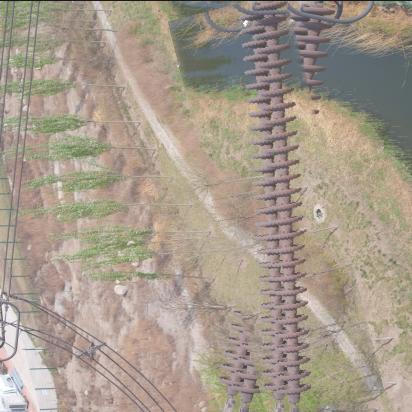insulator: (192, 1, 361, 412)
